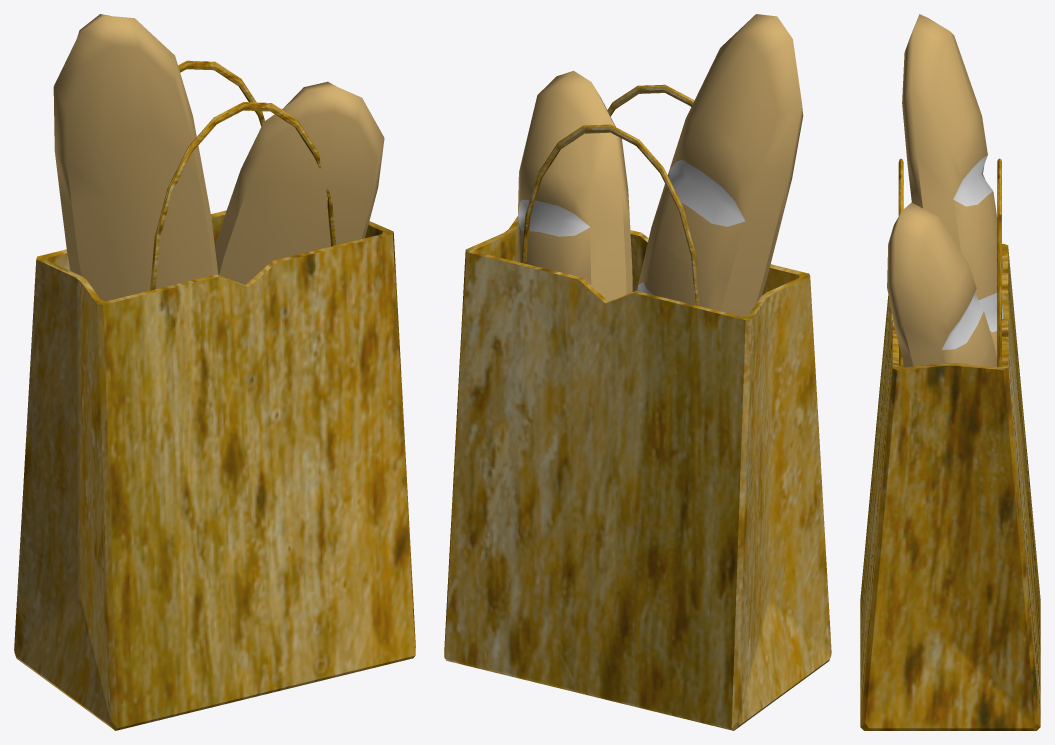
The model's file is GroceryBag_02.fbx.
The picture shows the model from 3 angles, left to right: view 1: azimuth 30°, elevation 25°; view 2: azimuth 150°, elevation 25°; view 3: azimuth 270°, elevation 25°; orthographic projection. The views are drawn at different scales.
Visible parts, largest first — view 1: GroceryBag_01; view 2: GroceryBag_01; view 3: GroceryBag_01.
Part boxes in pixels (x1,y1,x2,y2): GroceryBag_01: (14, 14, 415, 730); GroceryBag_01: (444, 14, 831, 730); GroceryBag_01: (860, 14, 1040, 730).
Size of the model in its own units: 7.93 by 16.35 by 4.46.
